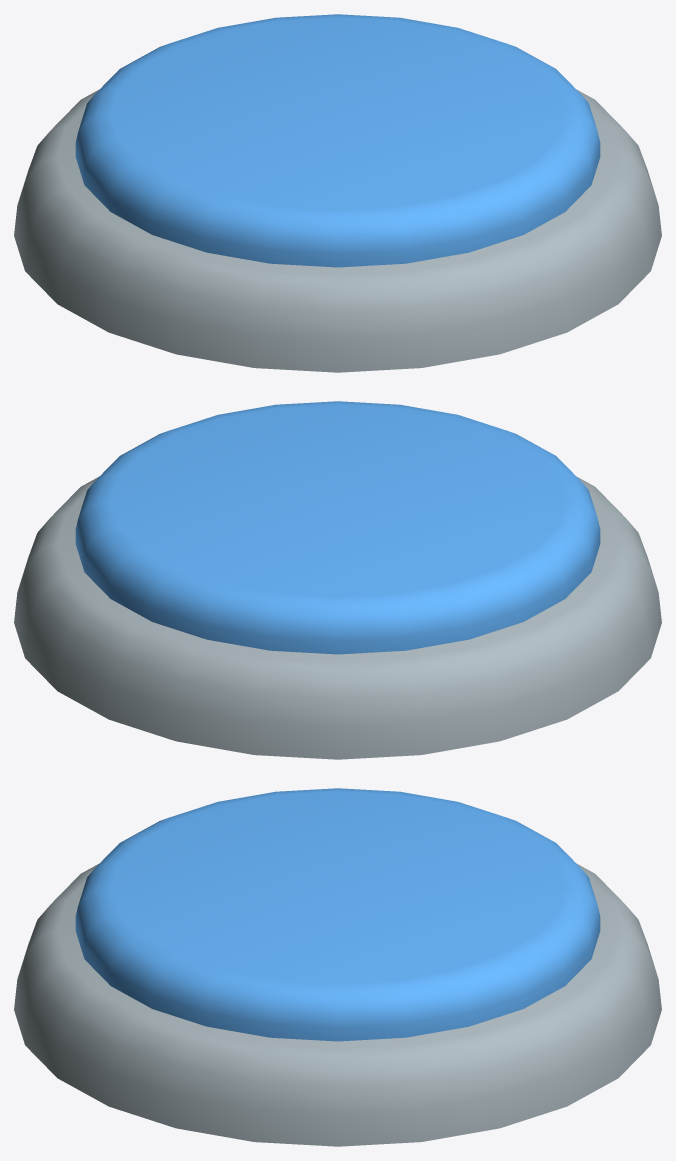
Rendered from button_teamBlue.glb.
3 renders of one model, top to bottom at view 1: azimuth 30°, elevation 25°; view 2: azimuth 150°, elevation 25°; view 3: azimuth 270°, elevation 25°, orthographic.
Parts seen in each view (by area): view 1: button_teamBlue; view 2: button_teamBlue; view 3: button_teamBlue.
Boxes of the visible parts, x1,y1,x2,y2 form: button_teamBlue: (14,14,661,372); button_teamBlue: (14,401,661,759); button_teamBlue: (14,788,661,1146).
Bounding box in the file's own units: 0.4901 × 0.1018 × 0.4901.
